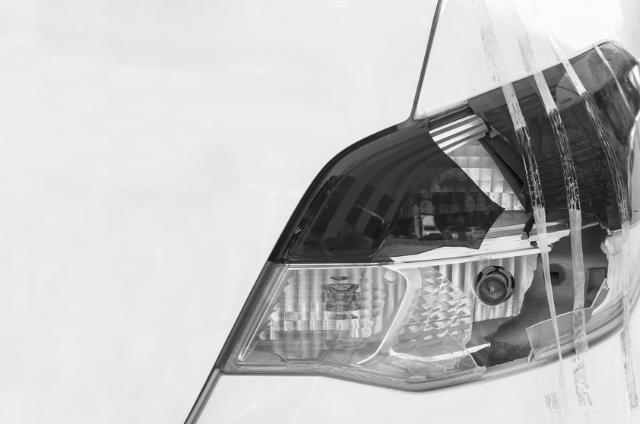Light: (270, 12, 640, 262)
